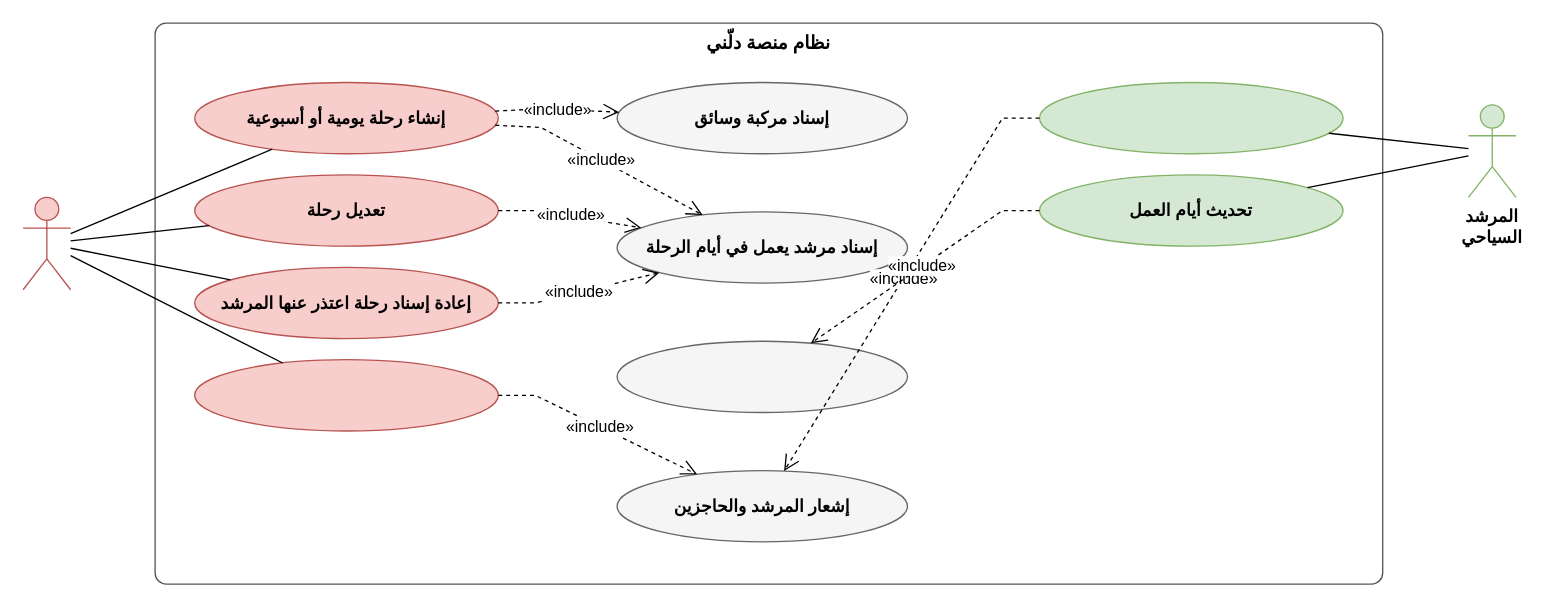
Some shapes in this 1546 by 607 pixel diagram are drawn without their labels. Here are the shapes that lost their labels. From the top down, the centre of each, then its label:
(1190,117): قبول أو الاعتذار عن رحلة مسندة
(46,243): مدير النظام
(345,394): إلغاء رحلة
(762,376): التحقق من عدم إزالة يوم عليه رحلة
